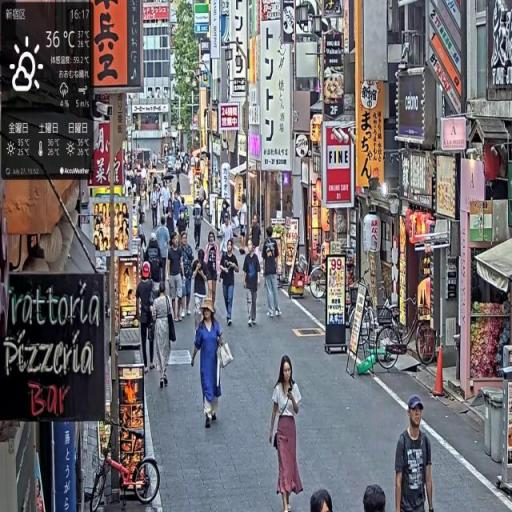person: (270, 355, 303, 512), (192, 301, 231, 430), (394, 393, 436, 512), (151, 281, 178, 394), (135, 262, 157, 375), (168, 232, 188, 327), (220, 240, 240, 331), (245, 239, 264, 332), (180, 228, 197, 319), (204, 232, 222, 316), (157, 216, 172, 289), (151, 180, 161, 231)
